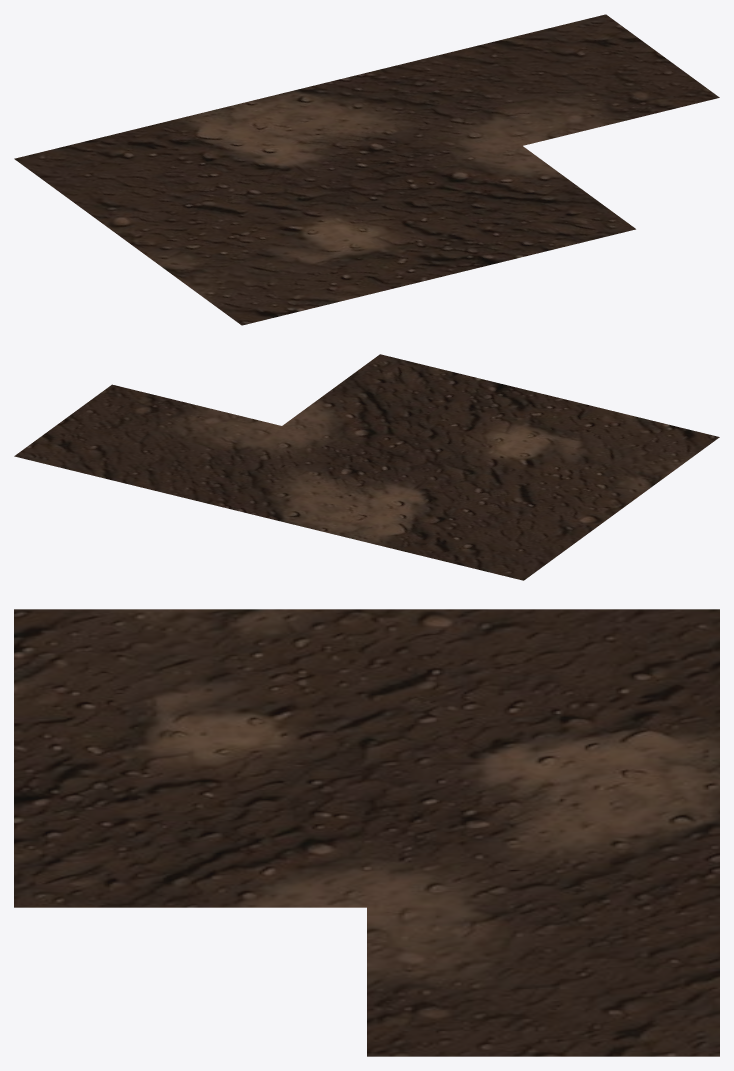
Rendered from floor_-2_-6.glb.
The picture shows the model from 3 angles, top to bottom: view 1: azimuth 30°, elevation 25°; view 2: azimuth 150°, elevation 25°; view 3: azimuth 270°, elevation 25°; orthographic projection. The views are drawn at different scales.
Parts seen in each view (by area): view 1: floor_-2_-6; view 2: floor_-2_-6; view 3: floor_-2_-6.
Part boxes in pixels (box(x1,y1,x2,y2)): floor_-2_-6: box(14, 14, 719, 325); floor_-2_-6: box(14, 354, 719, 580); floor_-2_-6: box(14, 609, 719, 1056).
Bounding box in the file's own units: 12 × 0 × 8.
Materials: 1 (1 with a texture image).
